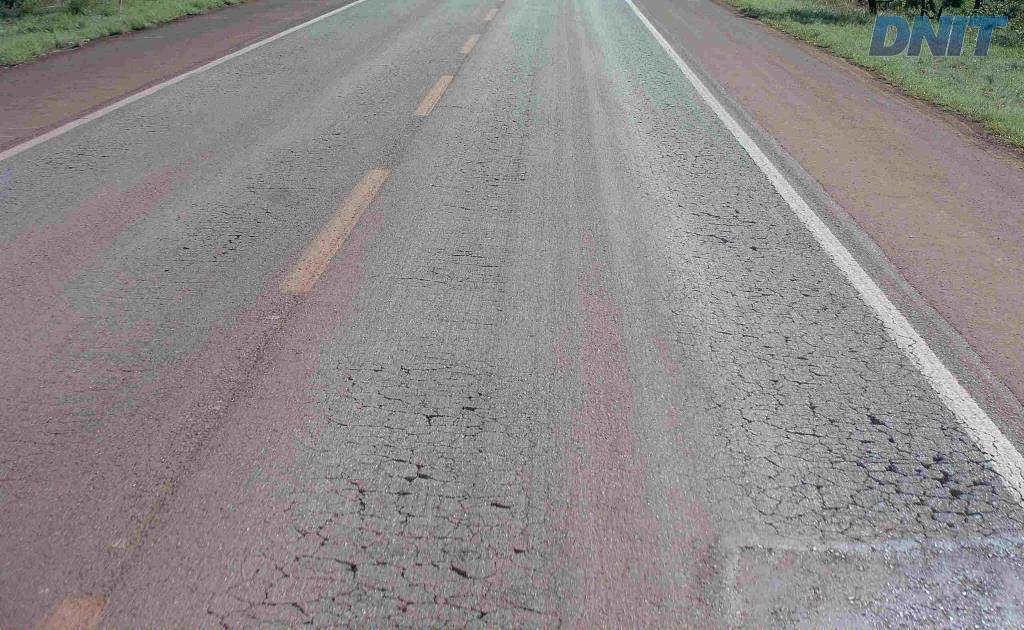crack: (930, 466, 999, 528)
